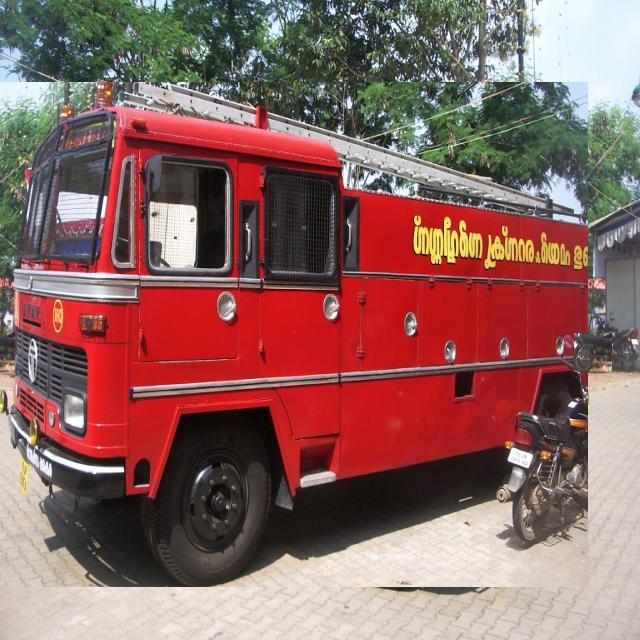emergency: (0, 83, 588, 587)
motorcycle: (0, 335, 92, 543), (593, 308, 640, 372), (574, 333, 612, 372)
